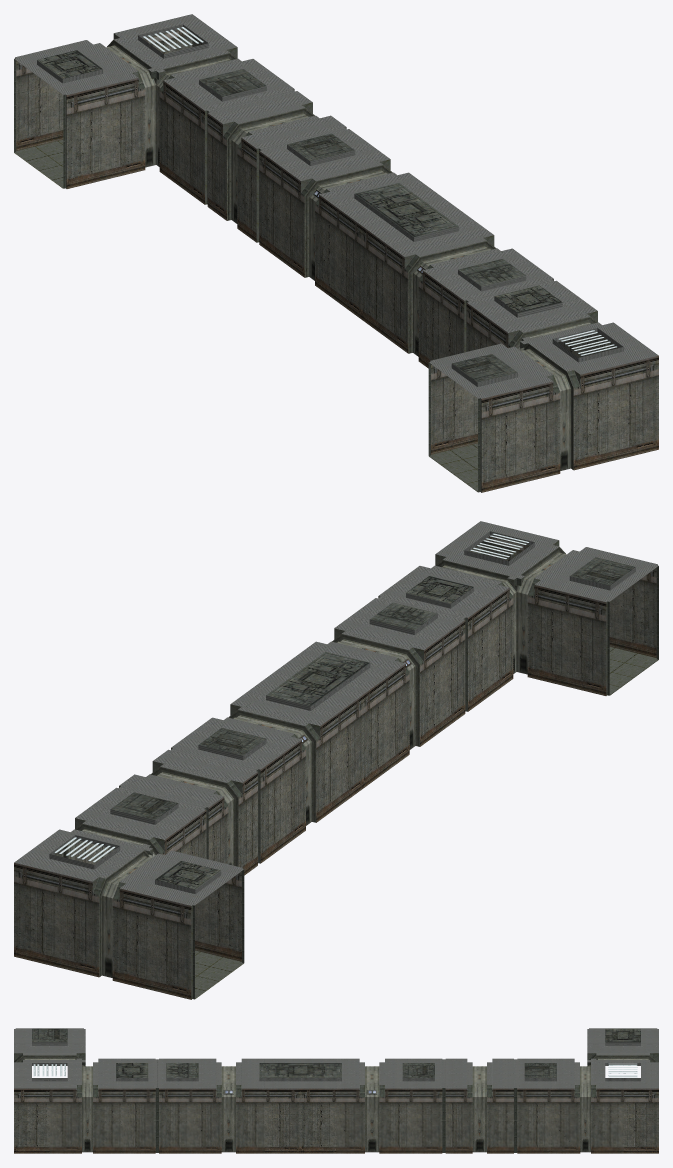
The model's file is poi_all_impl_bunker_crimelord_retreat_s01_r2_hallway01_mesh_r2.fbx.
The picture shows the model from 3 angles, top to bottom: view 1: azimuth 30°, elevation 25°; view 2: azimuth 150°, elevation 25°; view 3: azimuth 270°, elevation 25°; orthographic projection. The views are drawn at different scales.
Visible parts, largest first — view 1: mesh_node; view 2: mesh_node; view 3: mesh_node.
Boxes of the visible parts, x1=… form: mesh_node: x1=14, y1=14, x2=658, y2=492; mesh_node: x1=14, y1=521, x2=658, y2=999; mesh_node: x1=14, y1=1028, x2=658, y2=1153.
Size of the model in its own units: 8 by 4.2 by 36.
